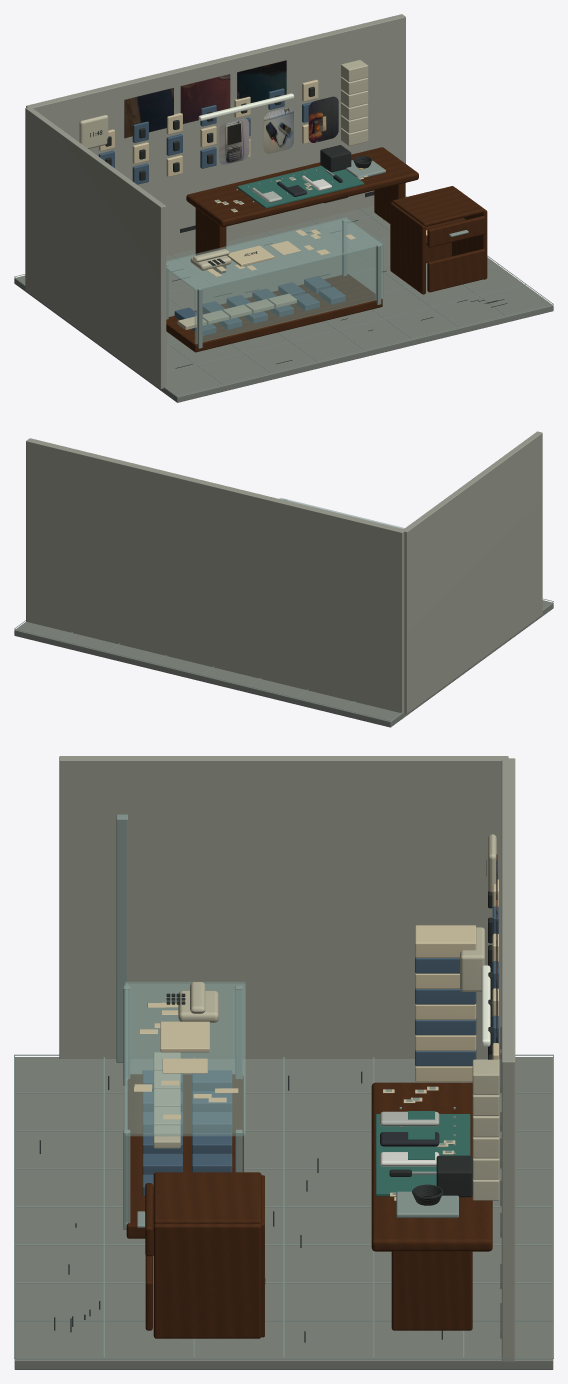
Rendered from oldlane-shop.glb.
The picture shows the model from 3 angles, top to bottom: view 1: azimuth 30°, elevation 25°; view 2: azimuth 150°, elevation 25°; view 3: azimuth 270°, elevation 25°; orthographic projection. The views are drawn at different scales.
Parts seen in each view (by area): view 1: Floor, Rear_wall, Left_wall, Glass_front, Glass_top, Repair_bench, Glass_counter_base, Cabinet_left, Cabinet_top, Cutting_mat, Cabinet_lower_front, Faded phone poster 1 (+14 smaller); view 2: Rear_wall, Left_wall, Floor, Tile_line_-3; view 3: Left_wall, Floor, Glass_top, Cabinet_right, Rear_wall, Repair_bench, Bench_leg.001, Cabinet_top, Glass_counter_base, Cutting_mat, Door_frame, Secondhand_box_8 (+23 smaller).
Boxes of the visible parts, box(x1,y1,x2,y2) form: Floor: box(14, 205, 553, 402); Rear_wall: box(26, 14, 405, 255); Left_wall: box(25, 107, 166, 388); Glass_front: box(194, 244, 383, 343); Glass_top: box(166, 217, 383, 290); Repair_bench: box(186, 147, 418, 227); Glass_counter_base: box(166, 274, 382, 352); Cabinet_left: box(390, 202, 425, 294); Cabinet_top: box(392, 186, 484, 226); Cutting_mat: box(237, 165, 364, 208); Cabinet_lower_front: box(427, 249, 485, 292); Faded phone poster 1: box(180, 74, 230, 123); Rear_wall: box(26, 438, 404, 713); Left_wall: box(404, 431, 542, 713); Floor: box(14, 600, 553, 727); Tile_line_-3: box(14, 629, 390, 720); Left_wall: box(59, 756, 508, 1058); Floor: box(14, 1057, 553, 1369); Glass_top: box(124, 981, 245, 1136); Cabinet_right: box(153, 1224, 261, 1338); Rear_wall: box(501, 758, 515, 1361); Repair_bench: box(371, 1082, 492, 1251); Bench_leg.001: box(391, 1251, 472, 1330); Cabinet_top: box(153, 1172, 261, 1224); Glass_counter_base: box(126, 1074, 243, 1238); Cutting_mat: box(376, 1114, 470, 1196); Door_frame: box(116, 814, 127, 1062); Secondhand_box_8: box(415, 925, 476, 957).
Bounding box in the file's own units: 8.07 × 3.79 × 6.01.
25 materials, 11 textured.
